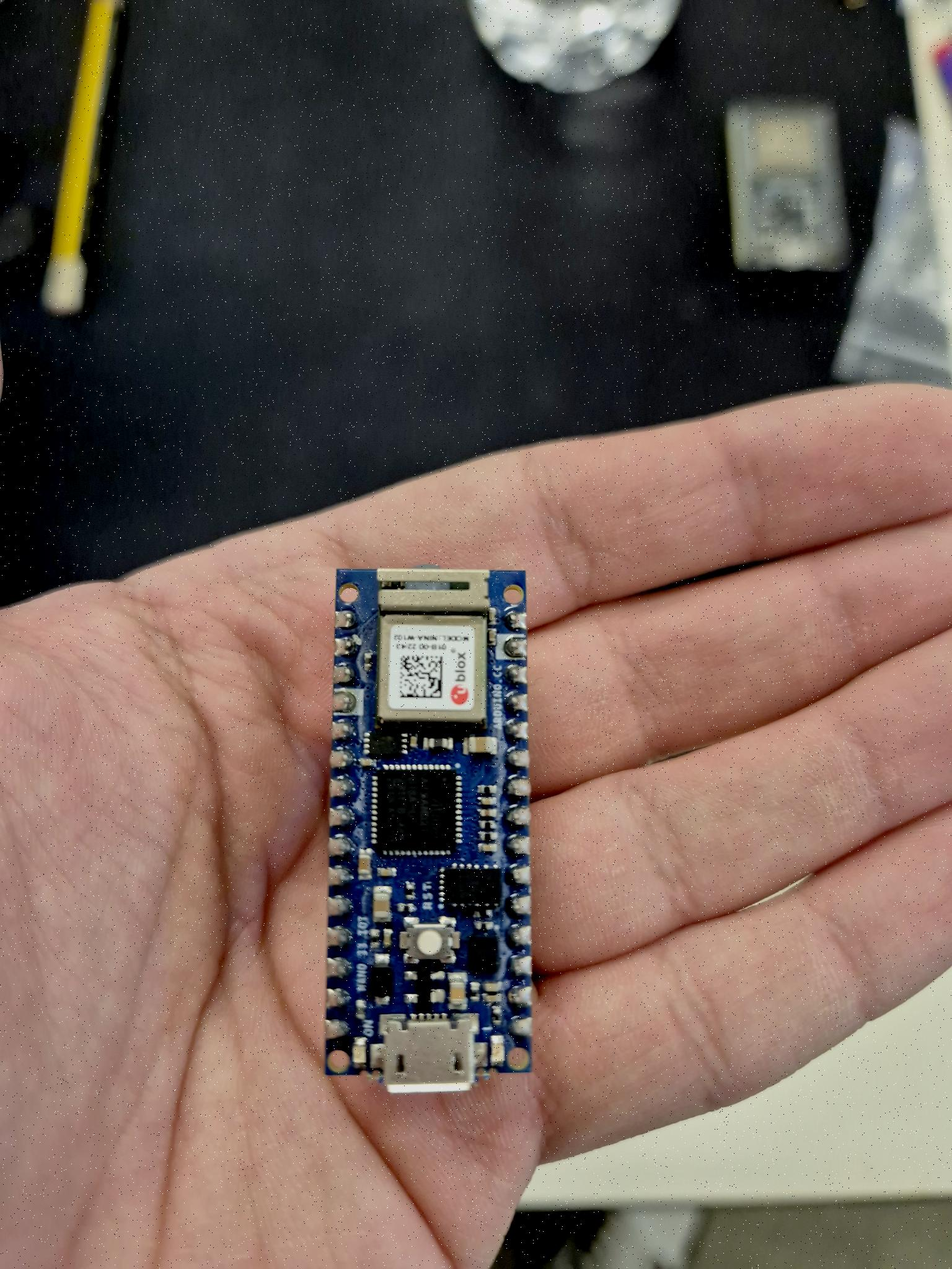arduino-nano-iot-33: (332, 565, 539, 1080)
